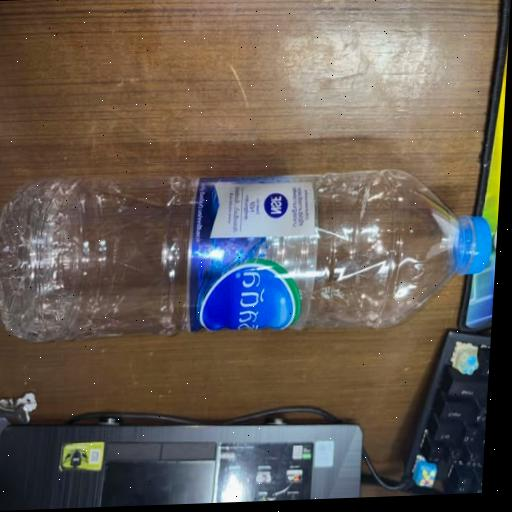ba: (0, 147, 502, 355)
